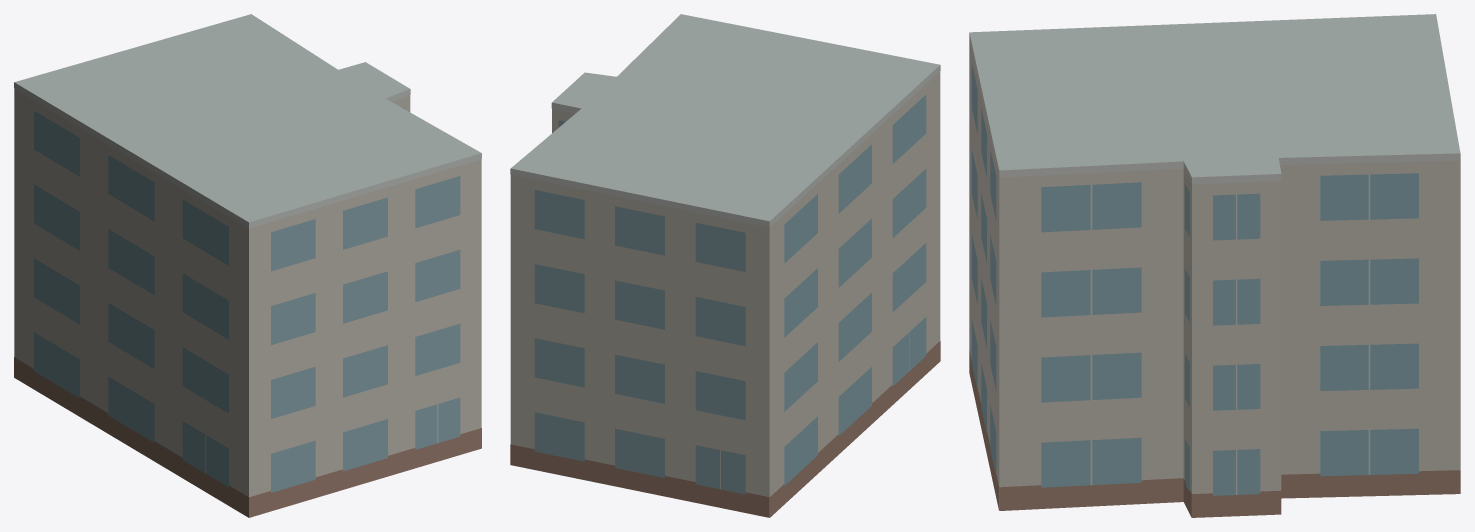
File: survey-upis-32921663.glb
3 views of the same model, side by side, from view 1: azimuth 30°, elevation 25°; view 2: azimuth 150°, elevation 25°; view 3: azimuth 270°, elevation 25° (orthographic). The views are drawn at different scales.
Visible parts, largest first — view 1: survey-upis-32921663.tmp; view 2: survey-upis-32921663.tmp; view 3: survey-upis-32921663.tmp.
Part boxes in pixels (x1,y1,x2,y2): survey-upis-32921663.tmp: (14, 14, 481, 517); survey-upis-32921663.tmp: (510, 14, 940, 517); survey-upis-32921663.tmp: (969, 14, 1460, 517).
Bounding box in the file's own units: 11.94 × 11.6 × 15.17.
